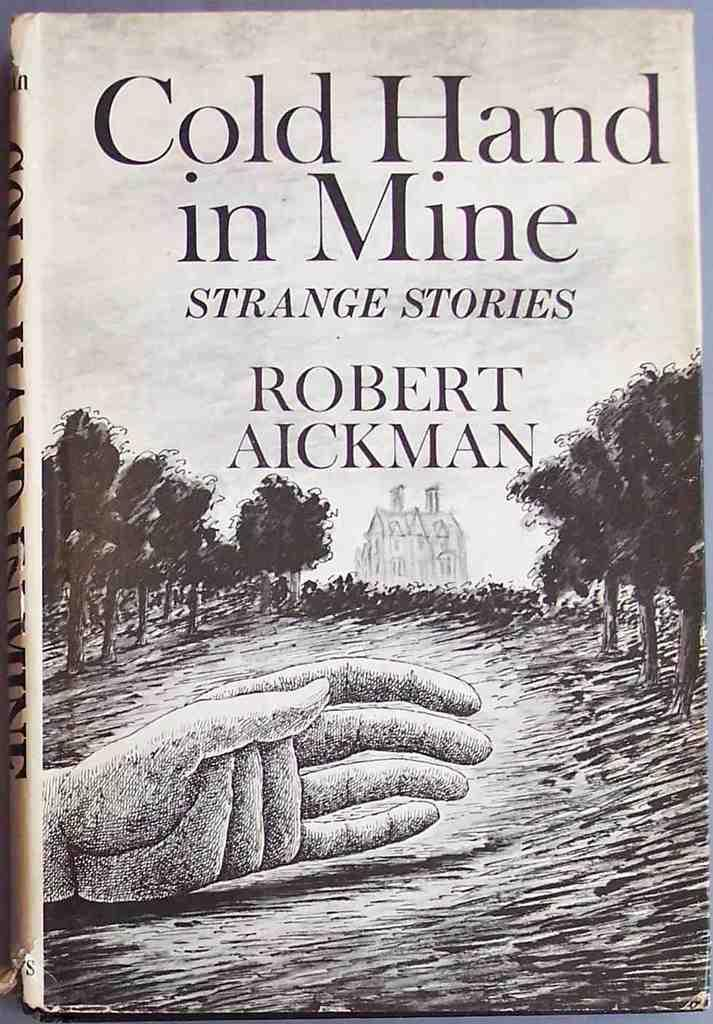book: (0, 6, 712, 1023)
